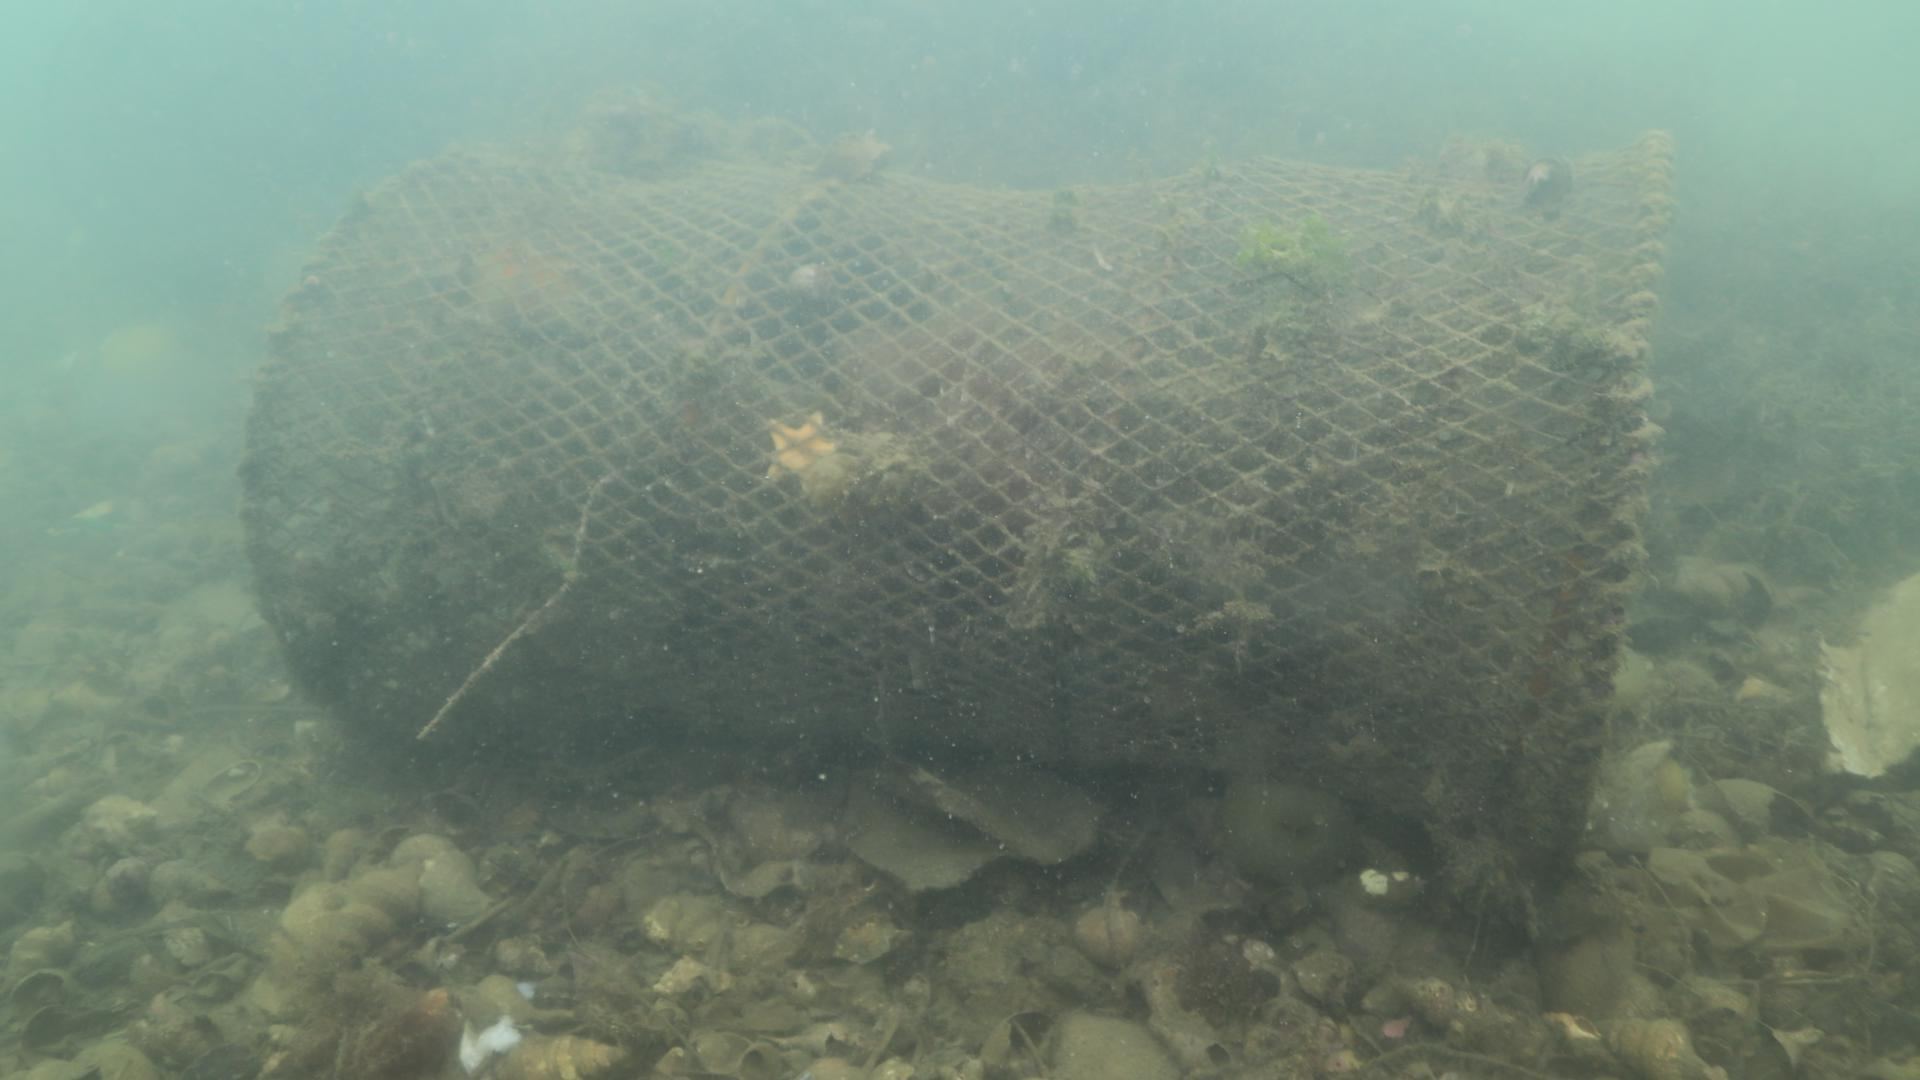spring fish trap: (235, 125, 1673, 895)
